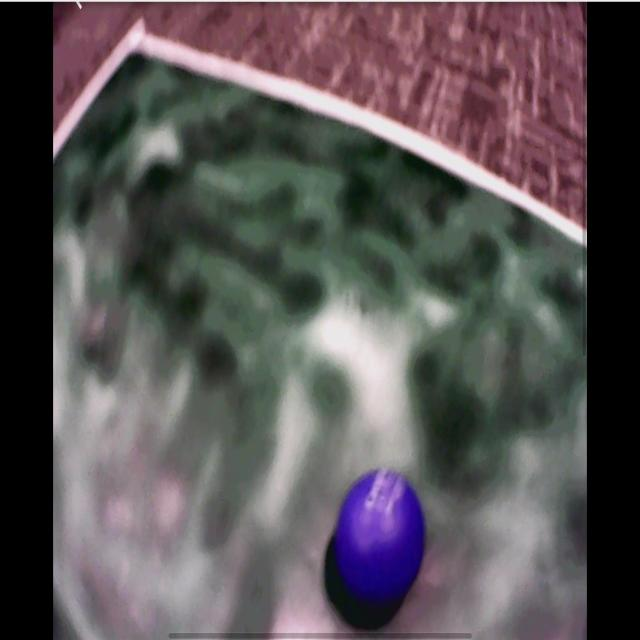ball: (334, 472, 428, 605)
